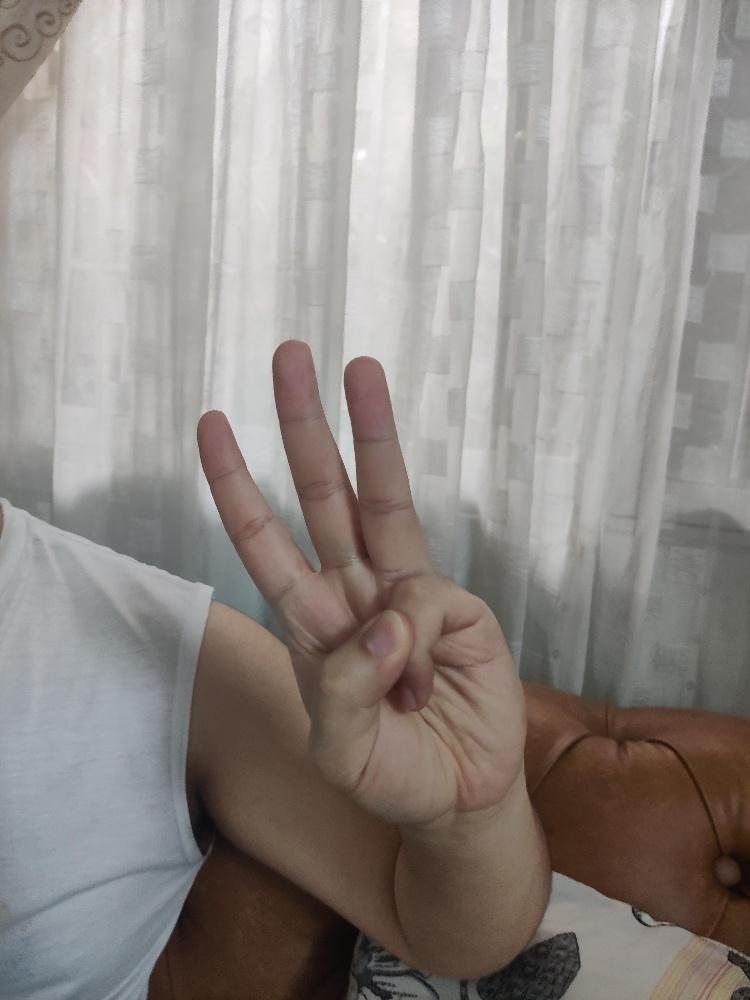w: (193, 336, 528, 824)
